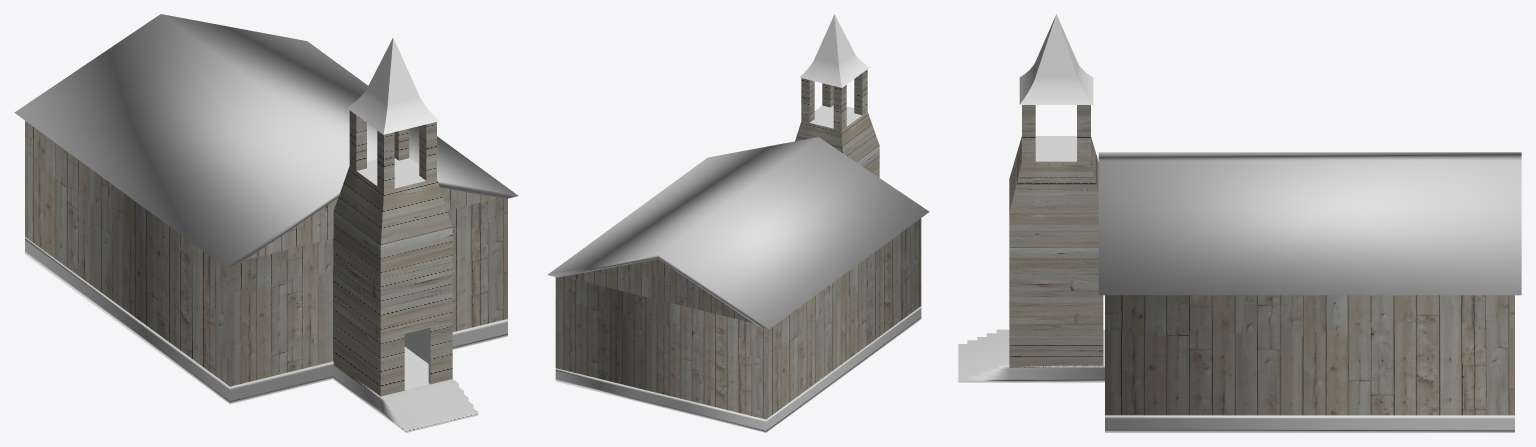
File: Church.fbx
The picture shows the model from 3 angles, left to right: view 1: azimuth 30°, elevation 25°; view 2: azimuth 150°, elevation 25°; view 3: azimuth 270°, elevation 25°; orthographic projection. The views are drawn at different scales.
Parts seen in each view (by area): view 1: Cube.001, Cube.002, Cube.003, Cube.004; view 2: Cube.002, Cube.001, Cube.003, Cube.004; view 3: Cube.001, Cube.002, Cube.003, Cube.004.
Boxes of the visible parts, bbox=[...] form: Cube.001: bbox=[14, 14, 518, 267]; Cube.002: bbox=[25, 121, 507, 386]; Cube.003: bbox=[333, 38, 452, 399]; Cube.004: bbox=[25, 237, 507, 432]; Cube.002: bbox=[555, 218, 921, 419]; Cube.001: bbox=[547, 137, 929, 328]; Cube.003: bbox=[795, 14, 879, 177]; Cube.004: bbox=[555, 306, 921, 432]; Cube.001: bbox=[1098, 152, 1521, 295]; Cube.002: bbox=[1105, 295, 1514, 415]; Cube.003: bbox=[1009, 14, 1103, 367]; Cube.004: bbox=[958, 329, 1514, 432].
Bounding box in the file's own units: 3455 × 3954 × 5747.
